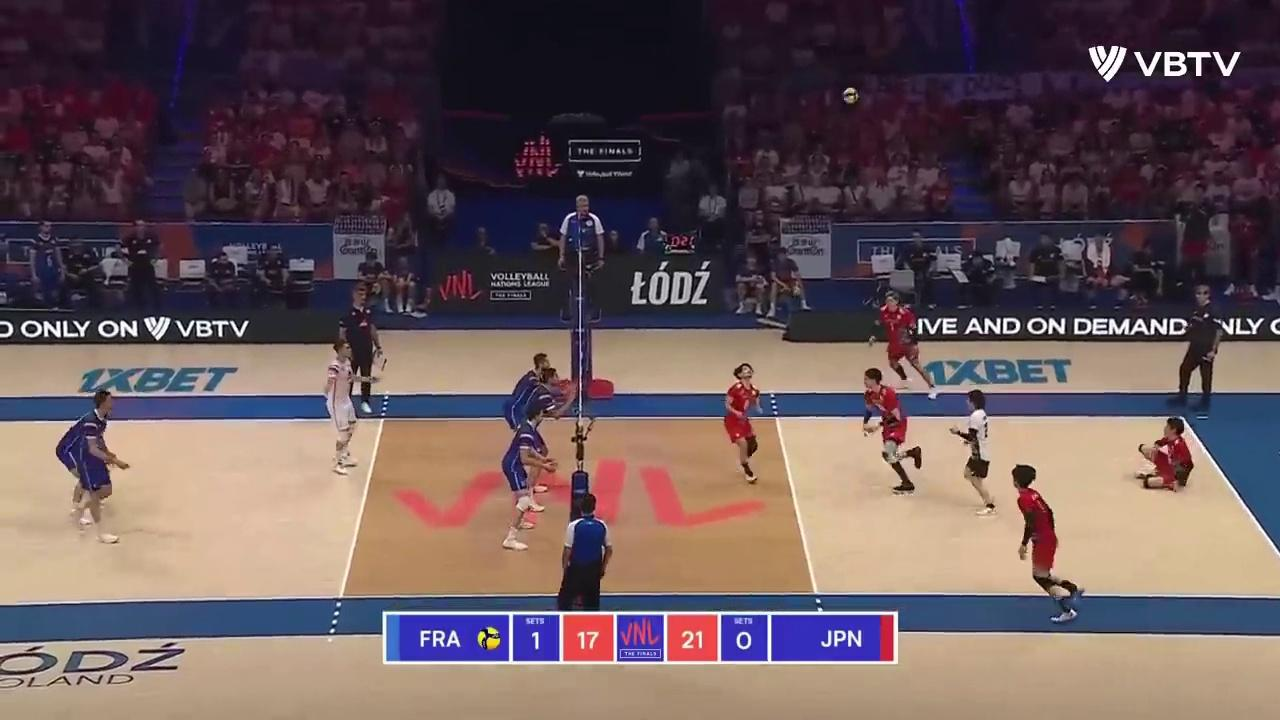ball: (842, 88, 858, 106)
